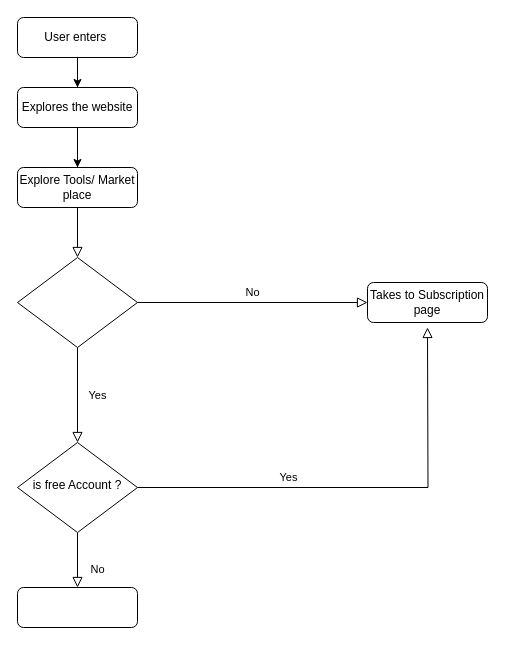
Image size: 505x645. Some labels were removed from this diagram. The shapes that lost their labels are listed below. From the top down, each one's centre as x and y in pixels, then its label:
At pixel 77 302: "Have Account ?".
At pixel 77 607: "Subscribed User".
